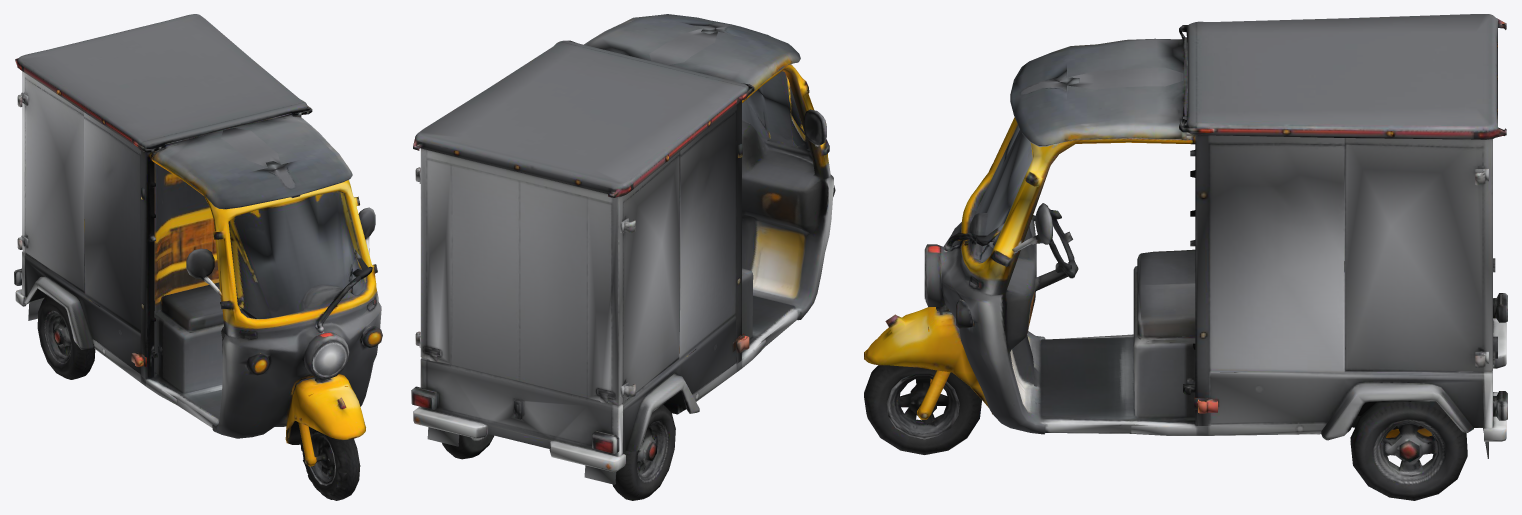
The model's file is bhaara_ecargo.glb.
The picture shows the model from 3 angles, left to right: view 1: azimuth 30°, elevation 25°; view 2: azimuth 150°, elevation 25°; view 3: azimuth 270°, elevation 25°; orthographic projection. The views are drawn at different scales.
Parts seen in each view (by area): view 1: tripo_node_e2dcf8b1-0346-4251-bcdc-12cf671c3651; view 2: tripo_node_e2dcf8b1-0346-4251-bcdc-12cf671c3651; view 3: tripo_node_e2dcf8b1-0346-4251-bcdc-12cf671c3651.
Part boxes in pixels (x1=…): tripo_node_e2dcf8b1-0346-4251-bcdc-12cf671c3651: x1=14, y1=14, x2=382, y2=500; tripo_node_e2dcf8b1-0346-4251-bcdc-12cf671c3651: x1=411, y1=14, x2=835, y2=500; tripo_node_e2dcf8b1-0346-4251-bcdc-12cf671c3651: x1=864, y1=14, x2=1507, y2=500.
Size of the model in its own units: 0.4277 by 0.6425 by 0.98.
1 material, 1 textured.
